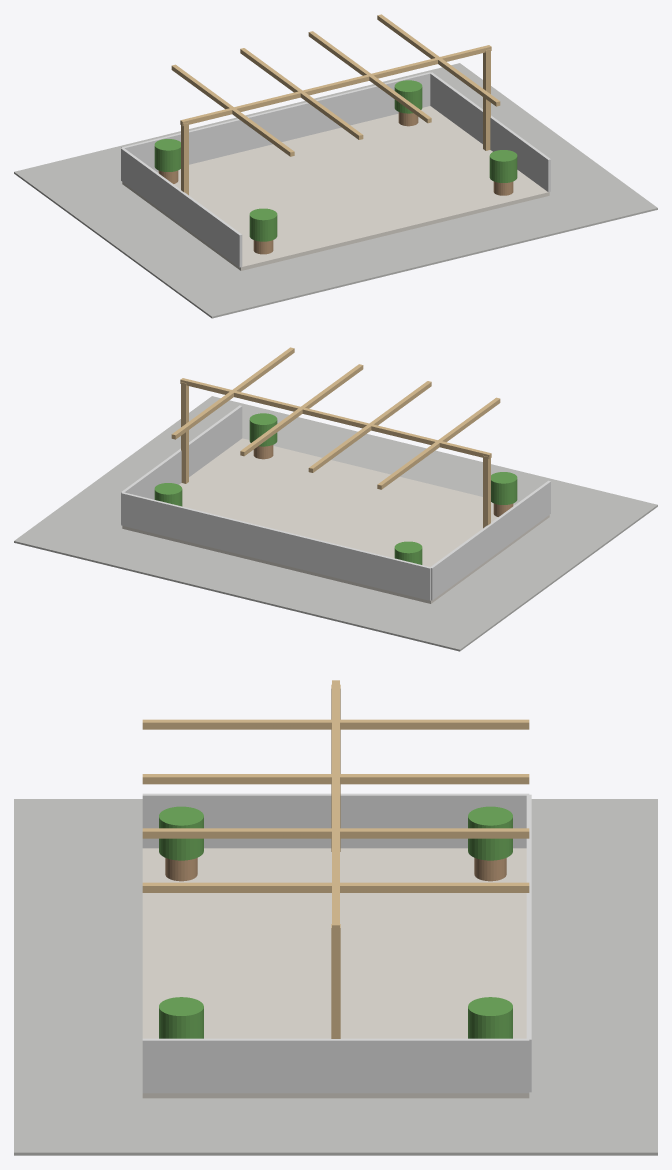
File: room-terrasse.glb
The picture shows the model from 3 angles, top to bottom: view 1: azimuth 30°, elevation 25°; view 2: azimuth 150°, elevation 25°; view 3: azimuth 270°, elevation 25°; orthographic projection. The views are drawn at different scales.
Parts seen in each view (by area): view 1: GroundExt, Floor, RailBack, RailLeft, RailRight, Ridge, Beam1, Beam0, Beam2, Beam3, Plant_-3.5_-2.4, Plant_3.5_-2.4 (+4 smaller); view 2: GroundExt, Floor, RailBack, RailLeft, RailRight, Ridge, Beam1, Beam0, Beam2, Beam3, Plant_-3.5_-2.4, Col_4.4 (+4 smaller); view 3: GroundExt, Floor, RailRight, RailLeft, Beam2, Beam3, Beam1, Beam0, Ridge, Plant_-3.5_2.4, Plant_-3.5_-2.4, Plant_3.5_2.4 (+5 smaller).
Part boxes in pixels (box(x1,y1,x2,y2)): GroundExt: box(14, 63, 657, 318); Floor: box(122, 106, 549, 270); RailBack: box(121, 72, 431, 172); RailLeft: box(121, 147, 242, 267); RailRight: box(430, 72, 550, 192); Ridge: box(180, 45, 491, 125); Beam1: box(240, 48, 363, 139); Beam0: box(171, 64, 294, 156); Beam2: box(308, 31, 431, 123); Beam3: box(377, 14, 500, 106); Plant_-3.5_-2.4: box(249, 208, 277, 241); Plant_3.5_-2.4: box(489, 150, 517, 182); GroundExt: box(14, 396, 657, 651); Floor: box(122, 438, 549, 603); RailBack: box(121, 492, 431, 600); RailLeft: box(431, 480, 550, 600); RailRight: box(121, 405, 242, 524); Ridge: box(180, 378, 491, 458); Beam1: box(308, 381, 431, 472); Beam0: box(377, 397, 500, 489); Beam2: box(240, 364, 363, 456); Beam3: box(171, 347, 294, 439); Plant_-3.5_-2.4: box(491, 472, 517, 504); Col_4.4: box(181, 382, 188, 483); GroundExt: box(14, 799, 657, 1155); Floor: box(142, 848, 529, 1098); RailRight: box(142, 1038, 529, 1093); RailLeft: box(142, 793, 529, 848); Beam2: box(142, 828, 529, 838); Beam3: box(142, 882, 529, 892); Beam1: box(142, 774, 529, 784); Beam0: box(142, 719, 529, 729); Ridge: box(332, 680, 339, 932); Plant_-3.5_2.4: box(468, 806, 512, 860); Plant_-3.5_-2.4: box(159, 806, 203, 860); Plant_3.5_2.4: box(468, 997, 512, 1038).
Size of the model in its own units: 13 by 3.01 by 10.
